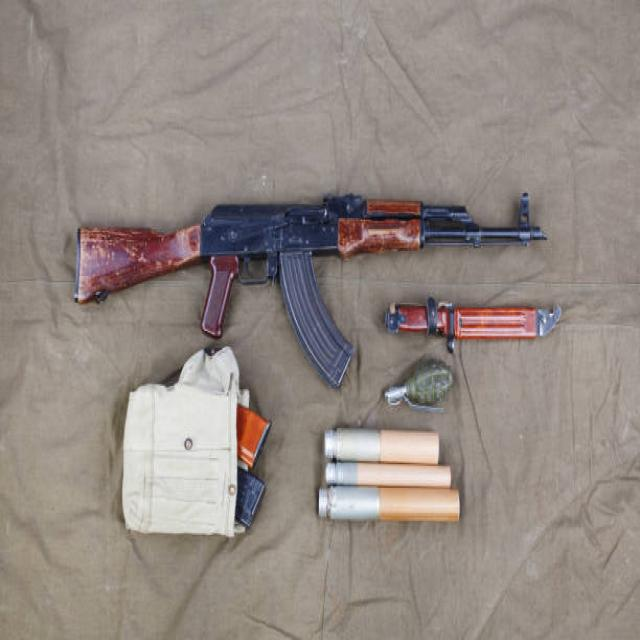grenade: (382, 356, 457, 417)
